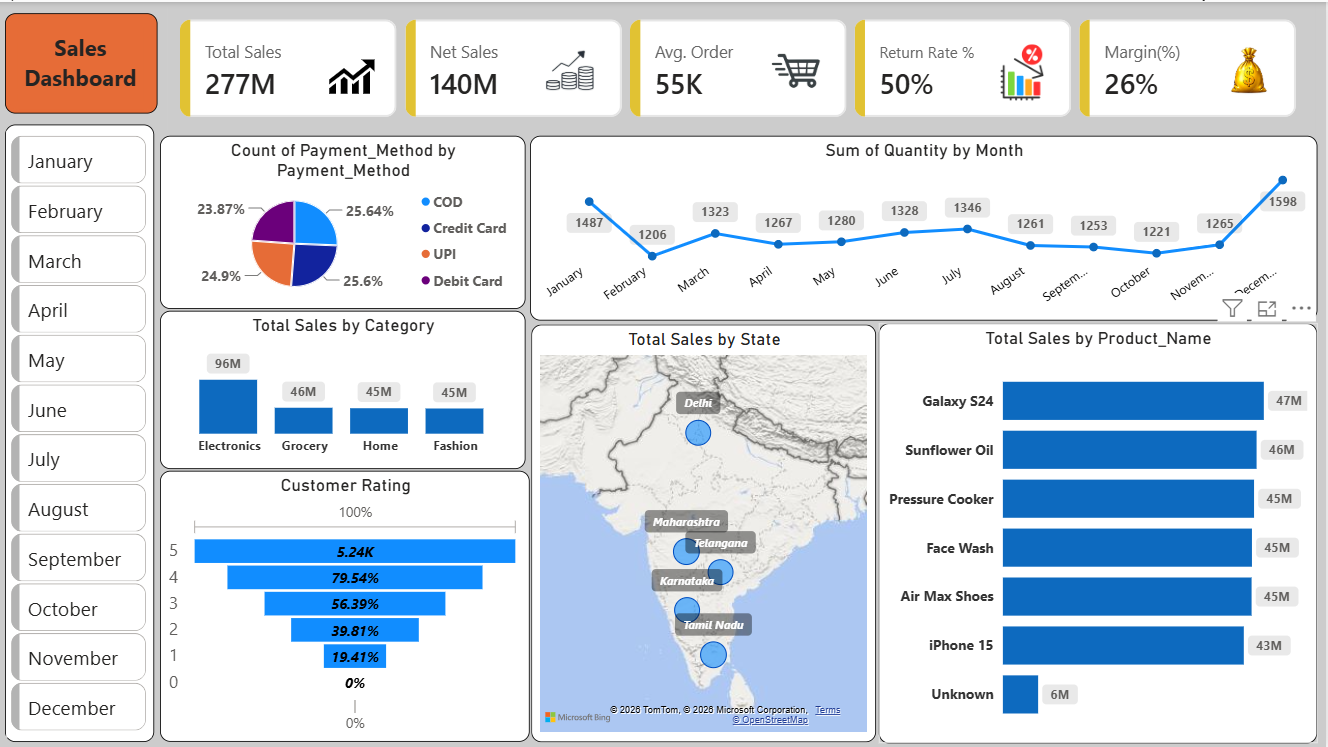

The dashboard page shown, as its layout file describes it:
{"tool":"powerbi","page":{"name":"Page 1","canvas":[1280,720],"ordinal":0},"visuals":[{"type":"shape","box":[4.3,11.4,147.1,97.1],"z":0},{"type":"textbox","box":[17.1,24.3,121.4,71.4],"z":1000},{"type":"shape","box":[4.3,118.6,144.3,595.7],"z":2000},{"type":"advancedSlicerVisual","fields":{"Values":["Amazon_Flipkart_Ecommerce_Sales_Messy_Dataset_5250.Order_Date.Variation.Date Hierarchy.Month"]},"box":[5.7,124.3,140,585.7],"z":3000},{"type":"cardVisual","fields":{"Data":["Sales_Data.Total Sales","Sales_Data.Net Sales","Sales_Data.Average Order Value","Sales_Data.Return Rate %","Sales_Data.Profit Margin %"]},"box":[157.1,0,1112.9,128.6],"z":4000},{"type":"map","fields":{"Category":["Sales_Data.State"],"Size":["Sales_Data.Total Sales"]},"box":[512.9,311.4,332.9,402.9],"z":5000},{"type":"lineChart","fields":{"Y":["Sum(Sales_Data.Quantity)"],"Category":["Sales_Data.Order_Date.Variation.Date Hierarchy.Month","Sales_Data.Order_Date.Variation.Date Hierarchy.Day"]},"box":[511.4,128.6,760,178.6],"z":6000},{"type":"clusteredColumnChart","fields":{"Category":["Sales_Data.Category"],"Y":["Sales_Data.Total Sales"]},"box":[154.3,298.6,352.9,152.9],"z":7000},{"type":"clusteredBarChart","fields":{"Category":["Sales_Data.Product_Name"],"Y":["Sales_Data.Total Sales"]},"box":[848.6,310,422.9,405.7],"z":8000},{"type":"pieChart","fields":{"Y":["CountNonNull(Sales_Data.Payment_Method)"],"Category":["Sales_Data.Payment_Method"]},"box":[154.3,128.6,352.9,167.1],"z":9000},{"type":"funnel","title":"Customer Rating","fields":{"Category":["Sales_Data.Customer_Rating"],"Y":["Sum(Sales_Data.Customer_Rating)"]},"box":[154.3,452.9,357.1,261.4],"z":10000}]}

Visuals, with their boxes in screenshot pixels (x1, y1, x2, y2), scaled from the page's 1280x720 canvas onto the 1328x747 screenshot:
shape: 4:12:157:113
textbox: 18:25:144:99
shape: 4:123:154:741
advancedSlicerVisual - Amazon_Flipkart_Ecommerce_Sales_Messy_Dataset_5250.Order_Date.Variation.Date Hierarchy.Month: 6:129:151:737
cardVisual - Sales_Data.Total Sales x Sales_Data.Net Sales: 163:0:1318:133
map - Sales_Data.State x Sales_Data.Total Sales: 532:323:878:741
lineChart - Sum(Sales_Data.Quantity) x Sales_Data.Order_Date.Variation.Date Hierarchy.Month: 531:133:1319:319
clusteredColumnChart - Sales_Data.Category x Sales_Data.Total Sales: 160:310:526:468
clusteredBarChart - Sales_Data.Product_Name x Sales_Data.Total Sales: 880:322:1319:743
pieChart - CountNonNull(Sales_Data.Payment_Method) x Sales_Data.Payment_Method: 160:133:526:307
"Customer Rating" funnel: 160:470:531:741
